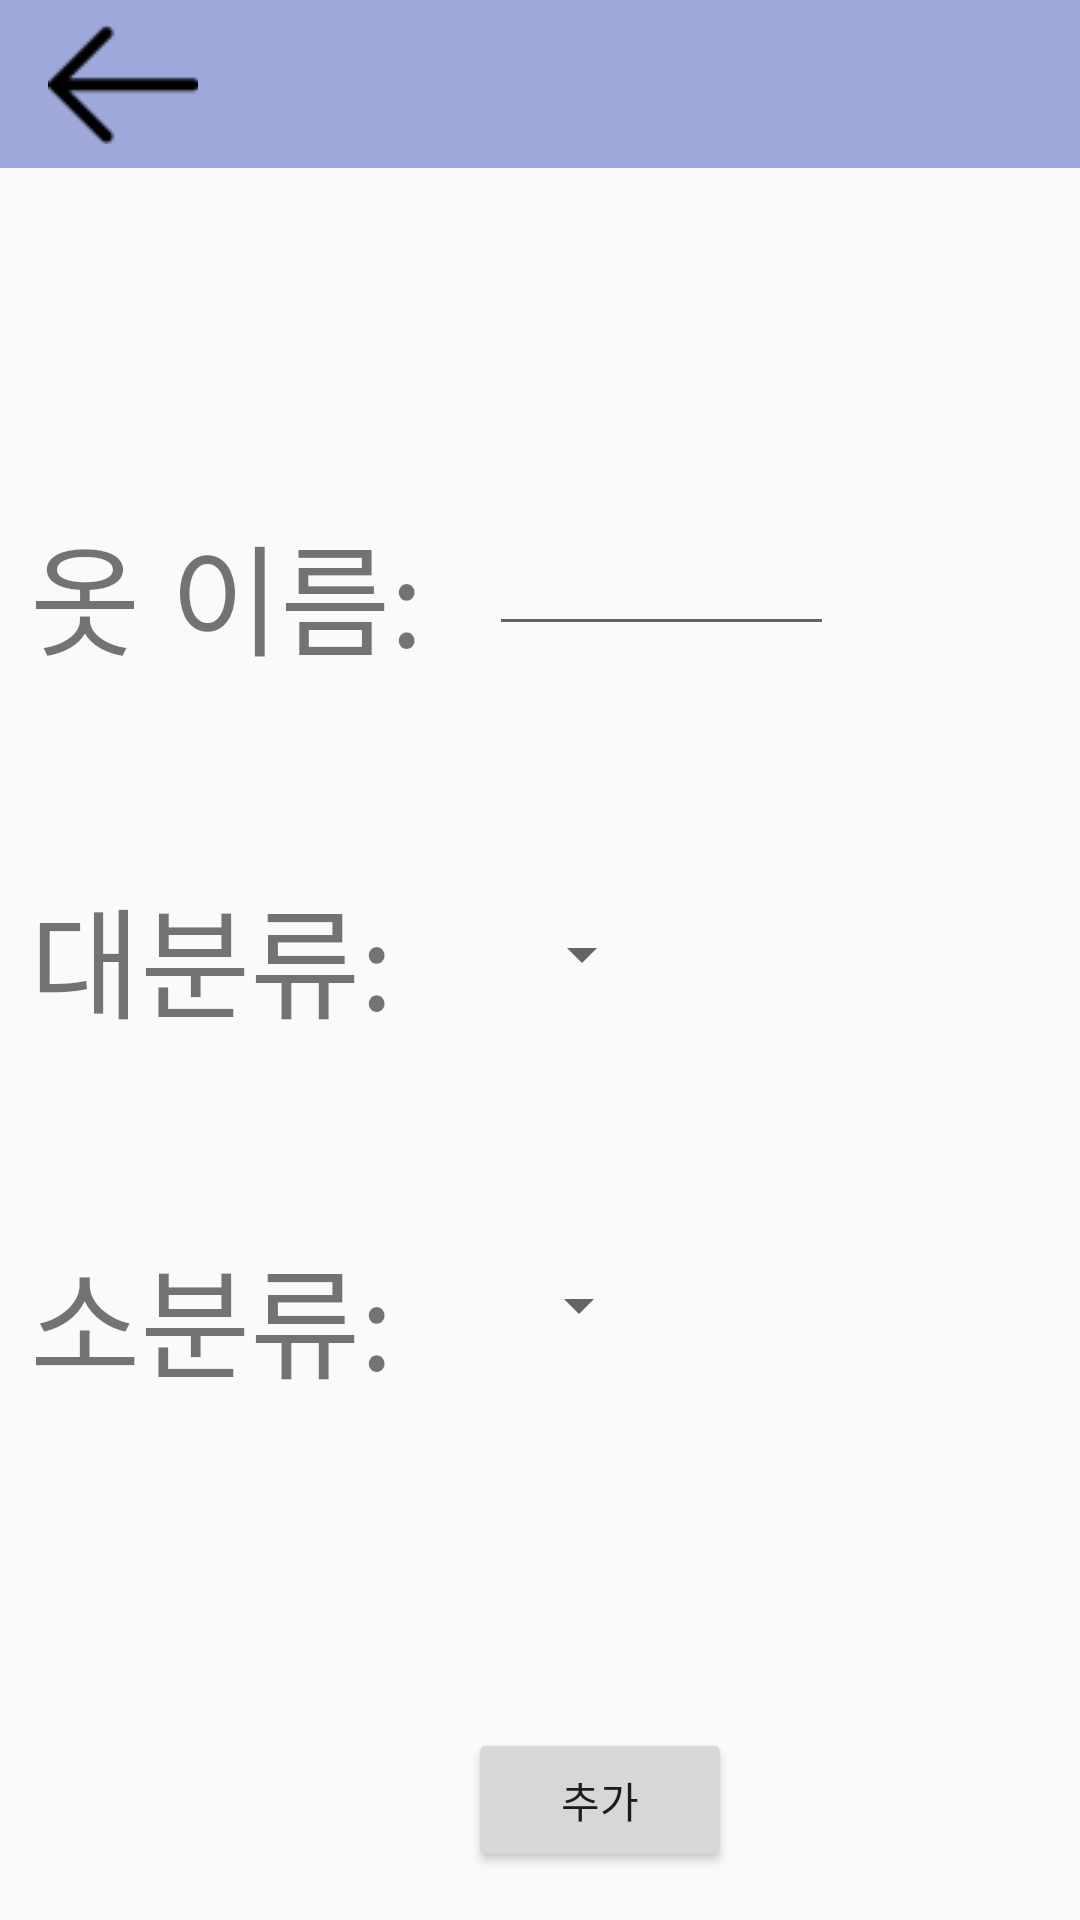

Named icons in this screenshot (1080 x 1920) and their centers, (x,y):
previous: (123,85)
